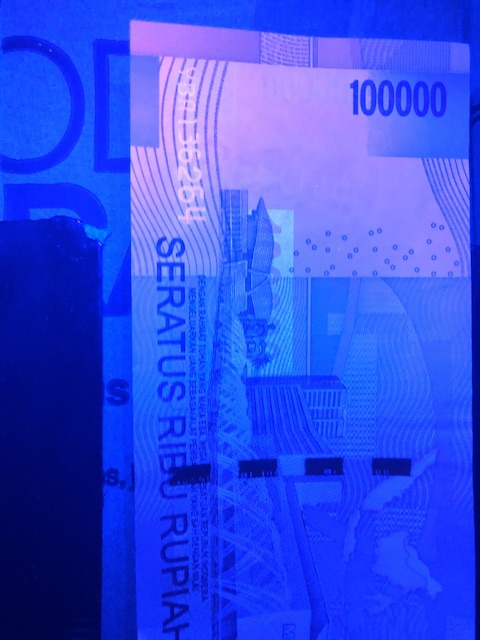100_RIBU_ASLI: (229, 208, 297, 377)
